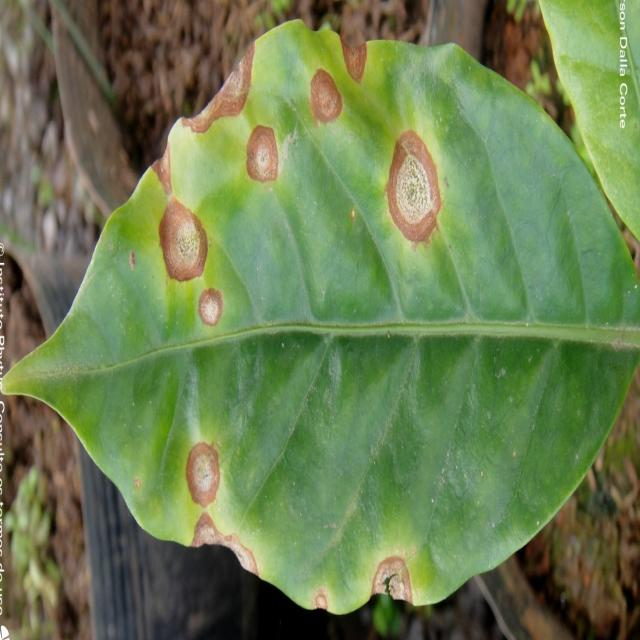Enfermedad-Mancha-de-hierro: (0, 22, 640, 618)
